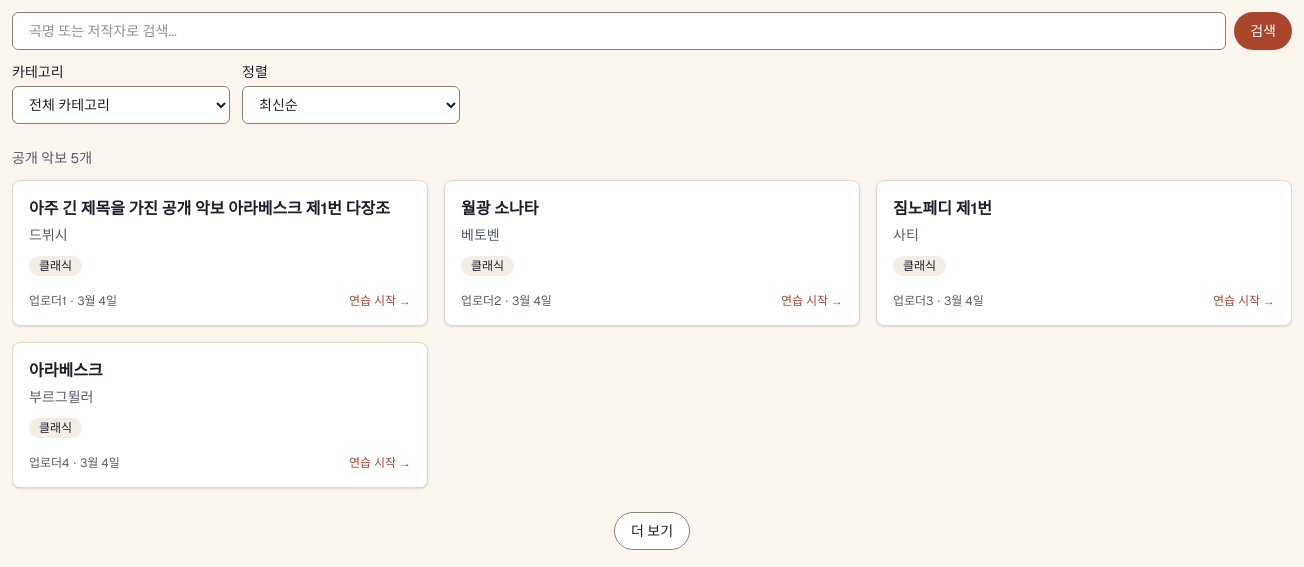
Test: PublicSheetMusicBrowser › appends the next page under 더 보기
The width and height of the screenshot is (1304, 567).
Expected: the link "아주 긴 제목을 가진 공개 악보 아라베스크 제1번 다장조 드뷔시 클래식 업로더1 · 3월 4일 연습 시작 →" is shown, [12,180,428,326]
Click the button "더 보기" at (652, 531), box [614,512,690,550]
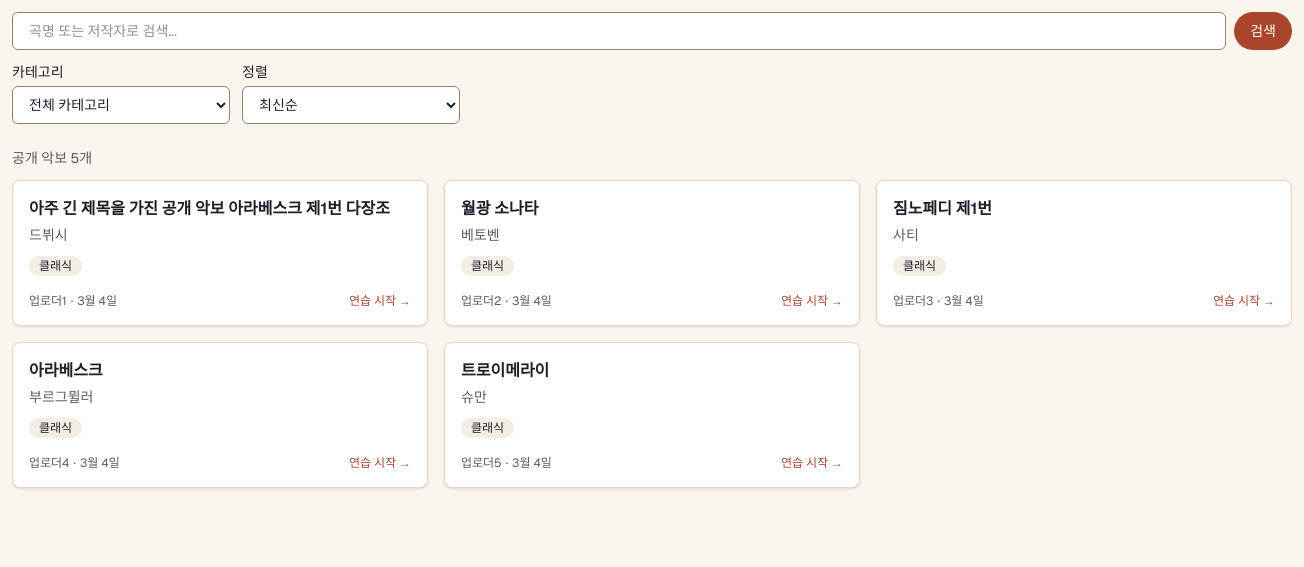
Expected: the number of links is 5, [12,180,428,326]; [444,180,860,326]; [876,180,1292,326]; [12,342,428,488]; [444,342,860,488]
Expected: the button "더 보기" is gone
